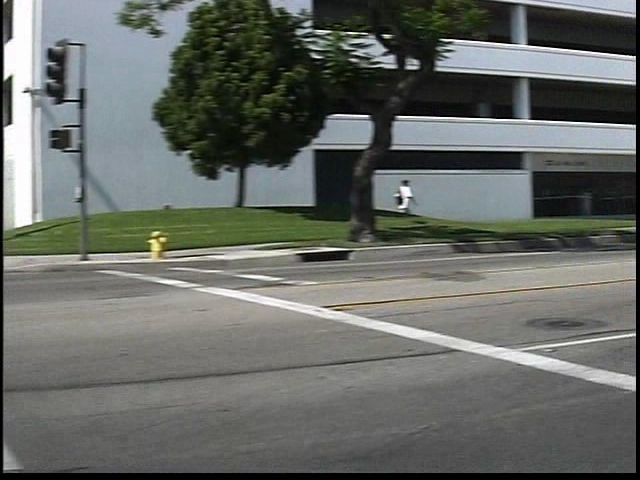person: (411, 175, 436, 236)
